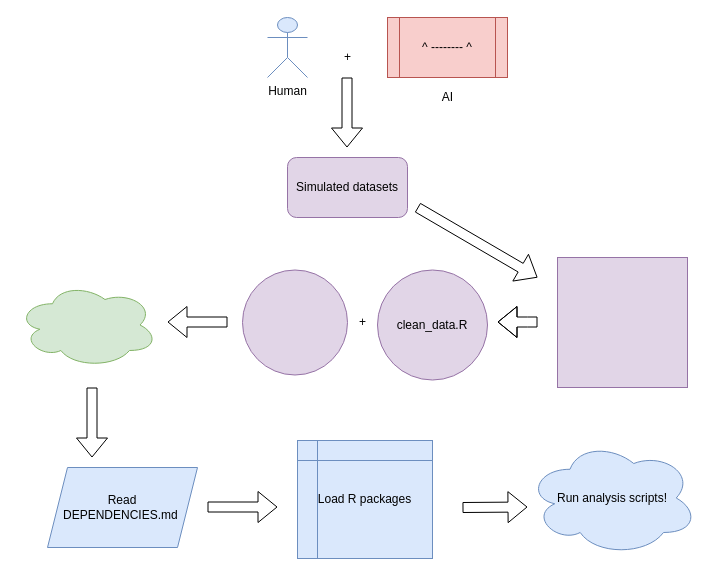
Image size: 715x576. Some labels were removed from this diagram. The centre of each missing label's shape, as x and y in pixels:
"Data is ready!" goes at [87,325].
"joined_datasets.R" goes at [295,322].
"prep_data_for_analysis" goes at [622,322].
